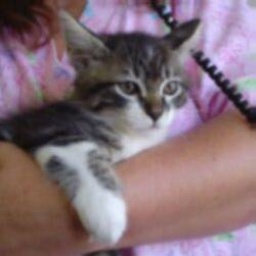cat: (5, 17, 201, 242)
